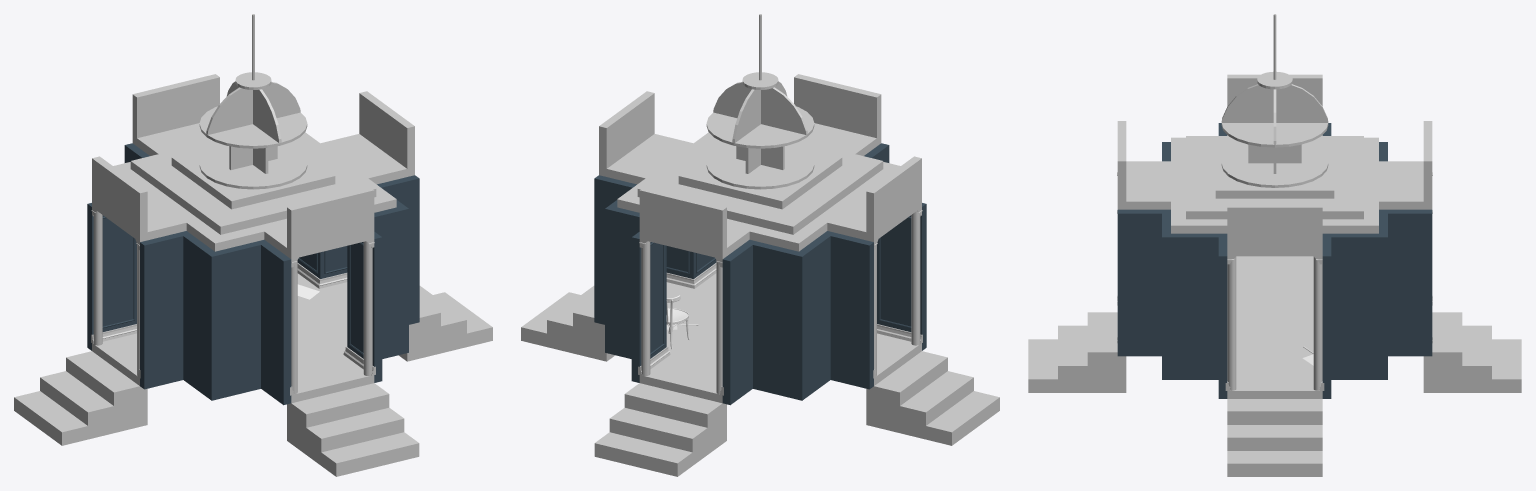
File: monumentojusticasemportascomrampa.glb
The picture shows the model from 3 angles, left to right: view 1: azimuth 30°, elevation 25°; view 2: azimuth 150°, elevation 25°; view 3: azimuth 270°, elevation 25°; orthographic projection.
Parts seen in each view (by area): view 1: Base.002, Tecto, Escadas, Base, Colunas Estreitas, Abobada_01, Circle.002, Abobada_03, Base.004, Circle.001, Abobada_02, Abobada_03.001; view 2: Base.002, Tecto, Escadas, Base, Colunas Estreitas, Abobada_01, Circle.002, Abobada_03, Base.004, Circle.001, Abobada_02, bottom_ornam (+1 smaller); view 3: Base.002, Tecto, Escadas, Base, Circle.001, Abobada_01, Colunas Estreitas, Abobada_03, Plane.002, Abobada_03.001.
Part boxes in pixels (left/top/right/bottom): Base.002: left=87, top=143, right=419, bottom=405; Tecto: left=92, top=74, right=414, bottom=259; Escadas: left=14, top=286, right=492, bottom=476; Base: left=92, top=273, right=374, bottom=403; Colunas Estreitas: left=93, top=211, right=372, bottom=394; Abobada_01: left=199, top=145, right=307, bottom=189; Circle.002: left=206, top=82, right=300, bottom=134; Abobada_03: left=199, top=106, right=307, bottom=148; Base.004: left=91, top=207, right=375, bottom=395; Circle.001: left=226, top=81, right=281, bottom=143; Abobada_02: left=229, top=146, right=277, bottom=169; Abobada_03.001: left=235, top=72, right=271, bottom=89; Base.002: left=594, top=143, right=926, bottom=405; Tecto: left=599, top=74, right=921, bottom=259; Escadas: left=521, top=286, right=999, bottom=476; Base: left=639, top=273, right=921, bottom=403; Colunas Estreitas: left=641, top=211, right=920, bottom=394; Abobada_01: left=706, top=145, right=814, bottom=189; Circle.002: left=713, top=82, right=807, bottom=134; Abobada_03: left=706, top=106, right=814, bottom=148; Base.004: left=638, top=207, right=922, bottom=395; Circle.001: left=732, top=81, right=787, bottom=143; Abobada_02: left=736, top=146, right=784, bottom=169; bottom_ornam: left=666, top=295, right=689, bottom=349; Base.002: left=1117, top=123, right=1432, bottom=398; Tecto: left=1117, top=74, right=1432, bottom=256; Escadas: left=1028, top=256, right=1521, bottom=476; Base: left=1227, top=257, right=1322, bottom=398; Circle.001: left=1221, top=84, right=1328, bottom=122; Abobada_01: left=1221, top=144, right=1328, bottom=187; Colunas Estreitas: left=1227, top=256, right=1322, bottom=390; Abobada_03: left=1221, top=123, right=1328, bottom=147; Plane.002: left=1248, top=144, right=1301, bottom=163; Abobada_03.001: left=1257, top=71, right=1292, bottom=89.
Bounding box in the file's own units: 8.3 × 6.65 × 8.3.
